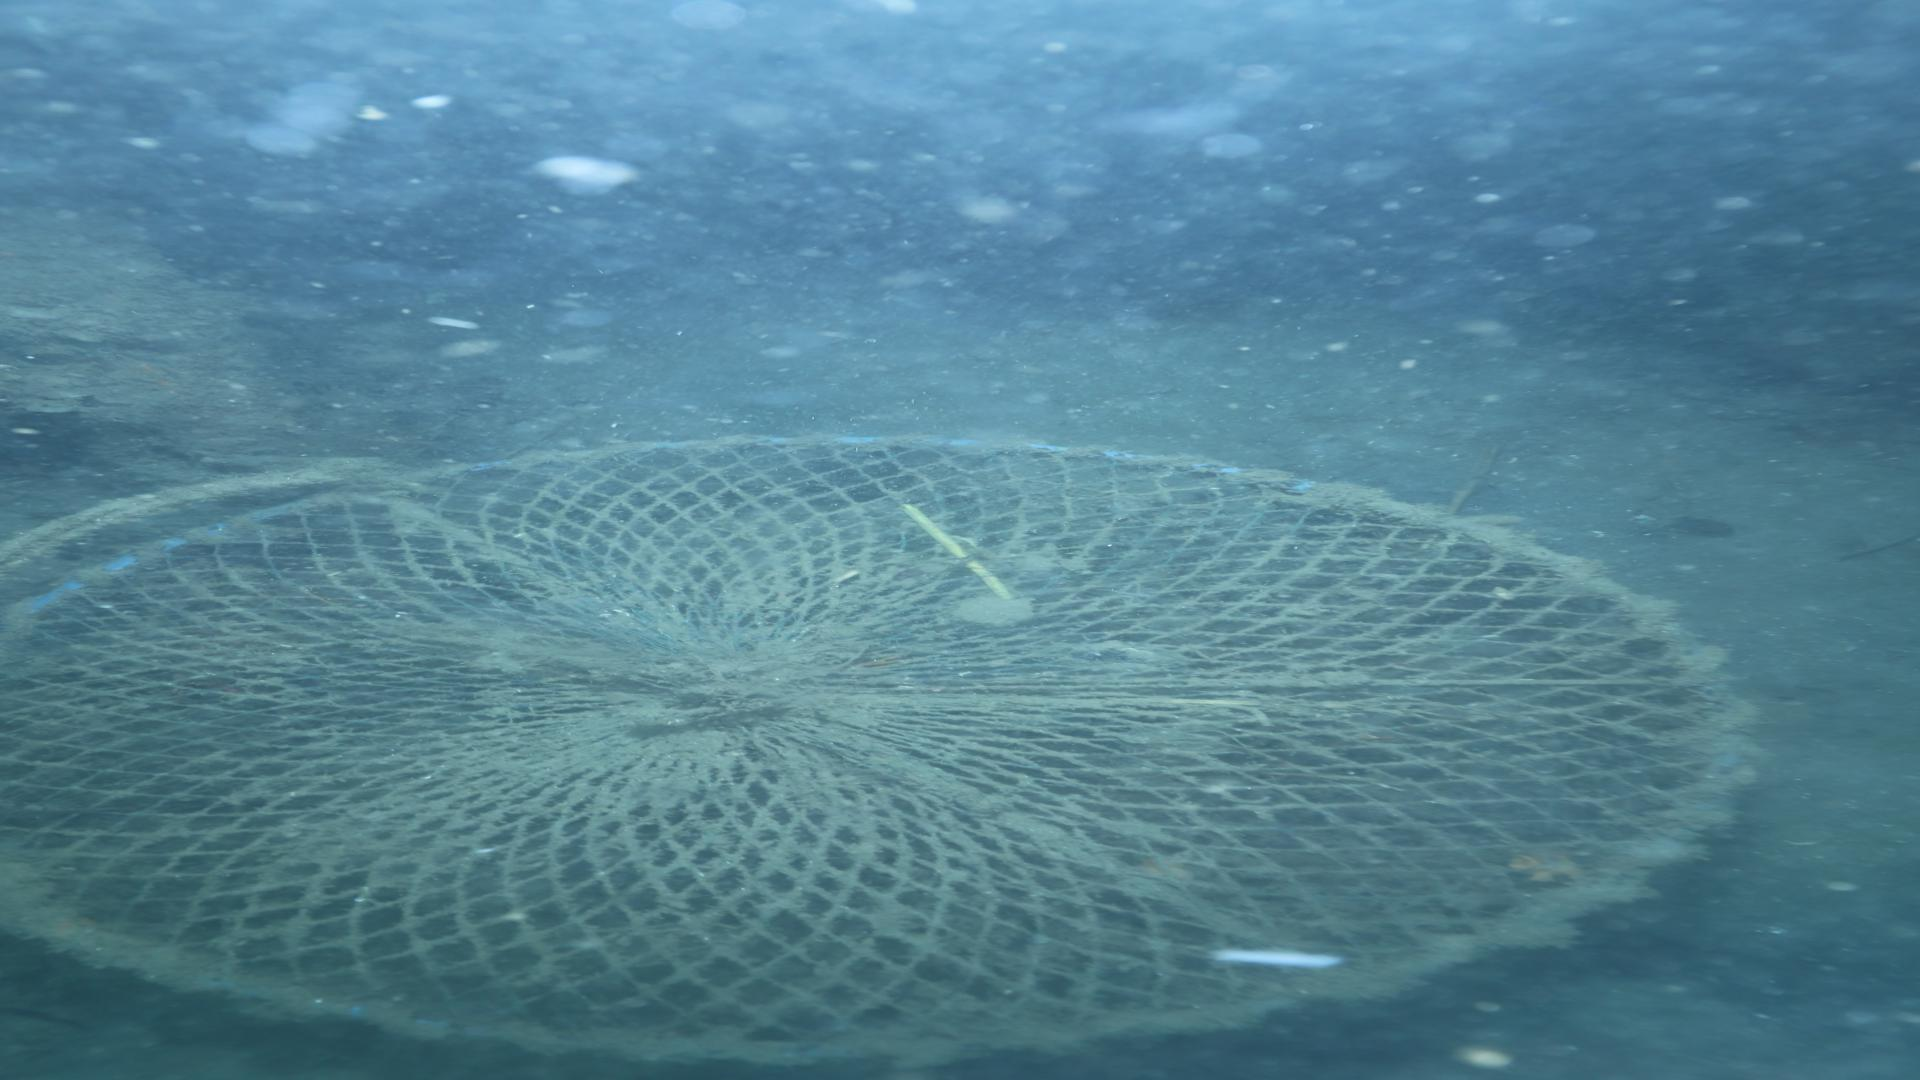circular fish trap: (0, 429, 1763, 1068)
